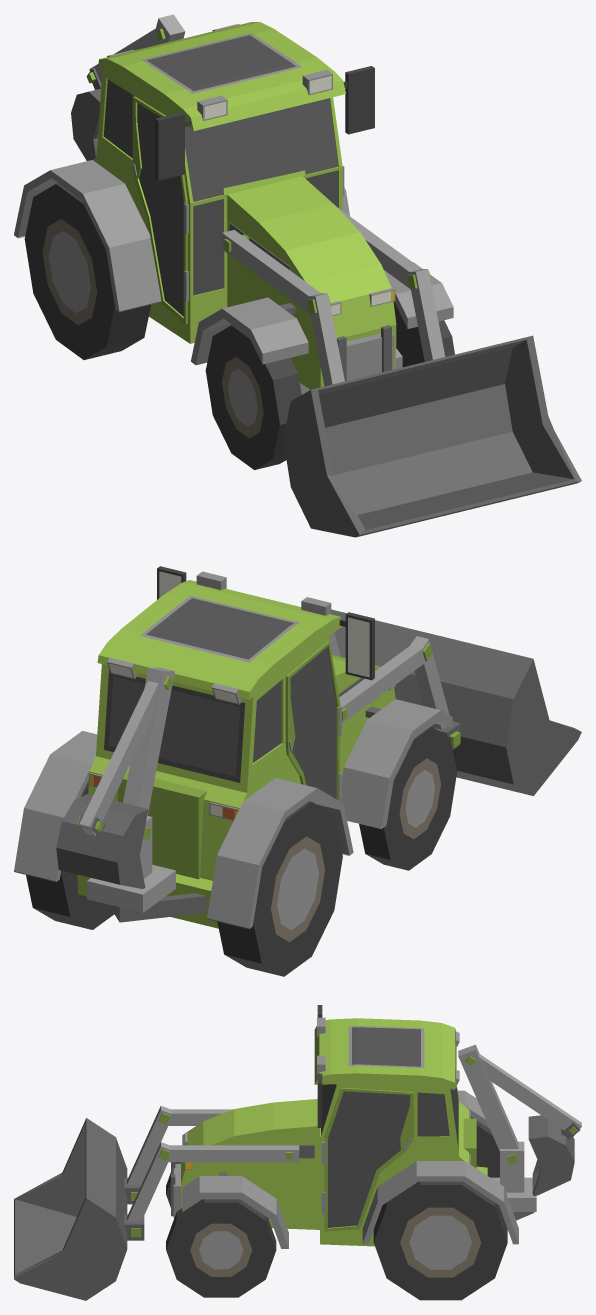
File: kar6_2.fbx
3 views of the same model, one above another, from view 1: azimuth 30°, elevation 25°; view 2: azimuth 150°, elevation 25°; view 3: azimuth 270°, elevation 25° (orthographic). The views are drawn at different scales.
Visible parts, largest first — view 1: Boole_1, Cube_5_2, Cylinder_5, Cylinder_2, Cube_3_2, Cube_14, Cube_5, Cylinder; view 2: Boole_1, Cube_5_2, Cylinder_5, Cylinder_2, Cube_5, Cube_4, Cube_3, Cylinder_1, Cube_14, Cube_3_2; view 3: Boole_1, Cube_5_2, Cylinder_1, Cylinder, Cube_14, Cube_5, Cube_3_2, Cube_3, Cube_4, Cylinder_5.
Part boxes in pixels (x1,y1,x2,y2): Boole_1: [14, 22, 453, 394]; Cube_5_2: [283, 335, 581, 537]; Cylinder_5: [24, 183, 150, 359]; Cylinder_2: [205, 325, 301, 469]; Cube_3_2: [307, 269, 445, 386]; Cube_14: [222, 206, 421, 313]; Cube_5: [71, 68, 101, 160]; Cylinder: [393, 302, 454, 367]; Boole_1: [14, 566, 452, 928]; Cube_5_2: [331, 609, 581, 795]; Cylinder_5: [217, 801, 342, 976]; Cylinder_2: [359, 726, 457, 870]; Cube_5: [56, 794, 148, 888]; Cube_4: [79, 676, 172, 836]; Cube_3: [123, 667, 174, 839]; Cylinder_1: [26, 780, 114, 929]; Cube_14: [339, 645, 423, 723]; Cube_3_2: [329, 632, 449, 729]; Boole_1: [171, 1005, 536, 1248]; Cube_5_2: [14, 1118, 144, 1300]; Cylinder_1: [373, 1181, 507, 1300]; Cylinder: [166, 1199, 276, 1297]; Cube_14: [168, 1109, 299, 1162]; Cube_5: [528, 1115, 580, 1195]; Cube_3_2: [127, 1106, 173, 1221]; Cube_3: [458, 1044, 518, 1164]; Cube_4: [465, 1054, 581, 1136]; Cylinder_5: [470, 1116, 499, 1177].
Bounding box in the file's own units: 213 × 260 × 597.
